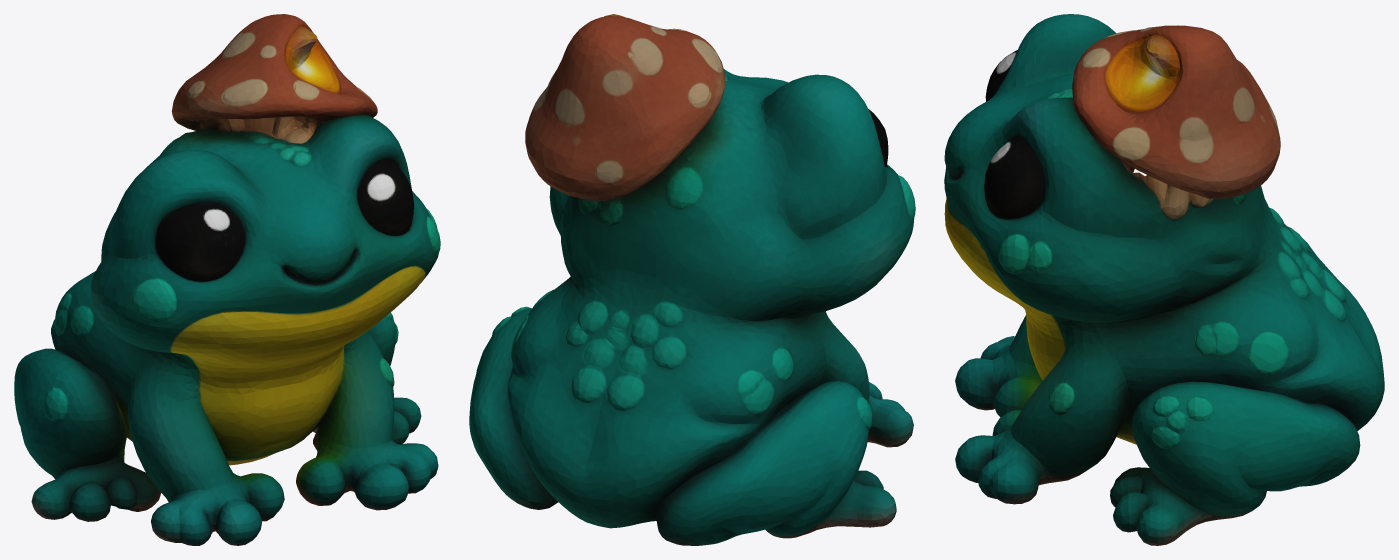
Rendered from shimmerfrog_raw.glb.
The picture shows the model from 3 angles, left to right: view 1: azimuth 30°, elevation 25°; view 2: azimuth 150°, elevation 25°; view 3: azimuth 270°, elevation 25°; orthographic projection. The views are drawn at different scales.
Visible parts, largest first — view 1: world; view 2: world; view 3: world.
Boxes of the visible parts, x1,y1,x2,y2 form: world: (14,14,440,545); world: (469,14,915,545); world: (944,14,1384,545).
Size of the model in its own units: 0.7684 by 0.8242 by 0.7169.
Materials: 1 (1 with a texture image).
